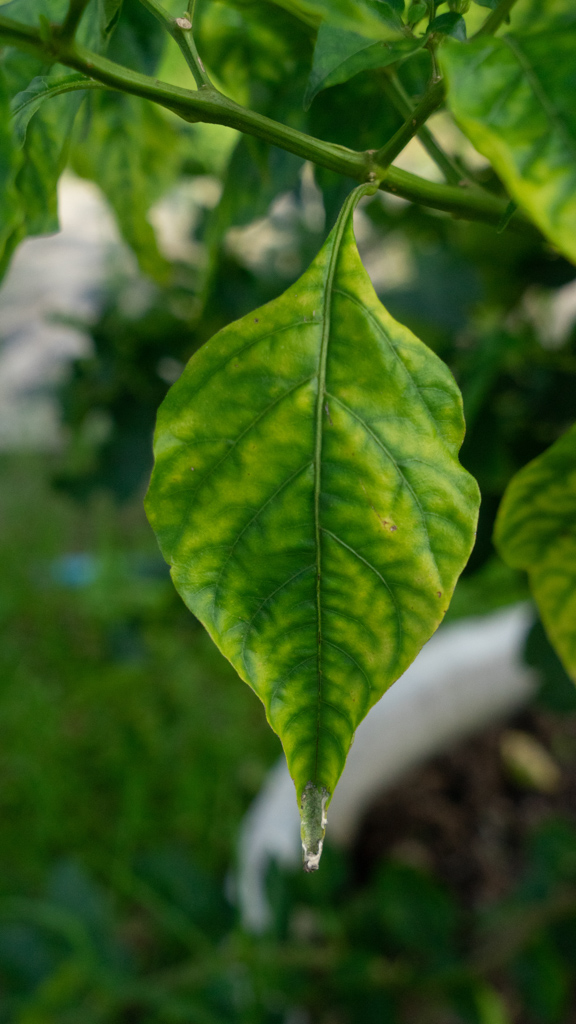frog-eye leafspot: (365, 504, 404, 546)
